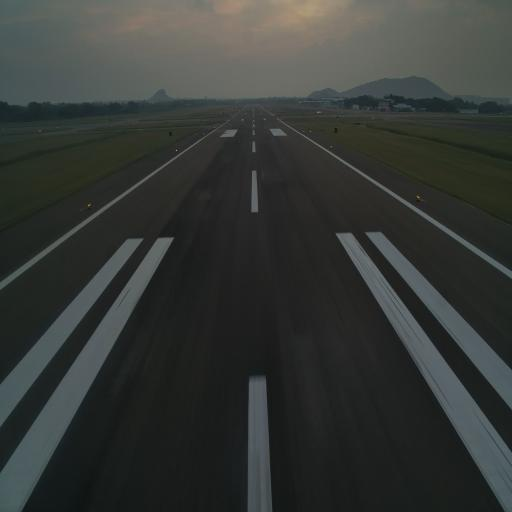on: (414, 191, 422, 202), (86, 200, 93, 211)
